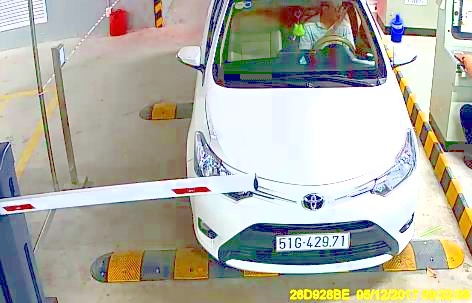plate: (271, 228, 352, 255)
